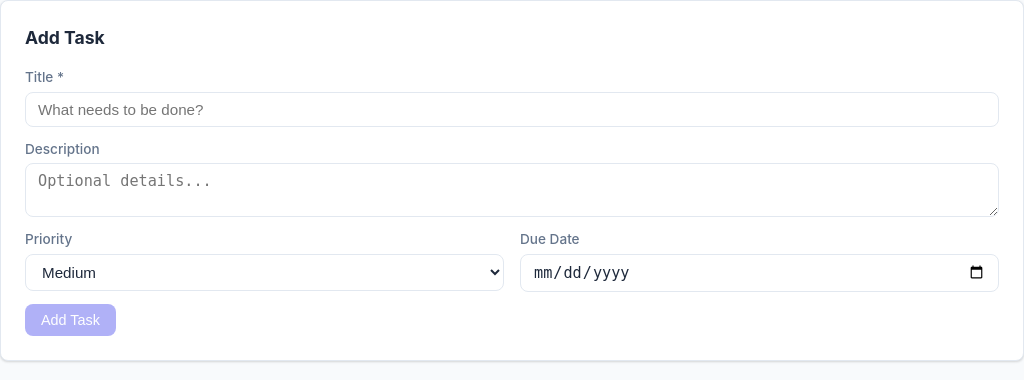
Test: TodoForm › submit button enables when title is filled
Type "My task" into the field labelled "Title *".
click(512, 109); type("My task")  # box [25,92,999,127]
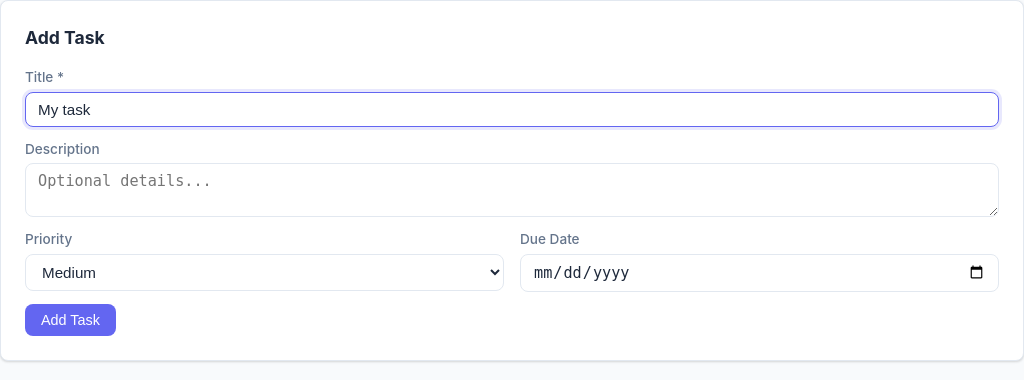
Expected: the button "Add Task" is enabled, [25,304,116,336]
